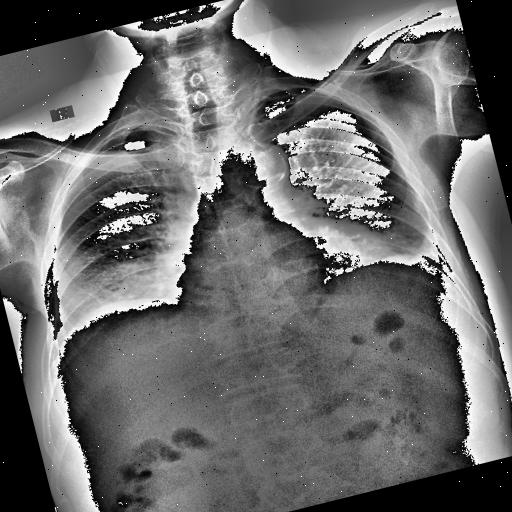0- Aortic enlargement: (213, 132, 296, 202), (221, 134, 295, 198), (220, 139, 292, 200)
10- Pleural effusion: (412, 222, 452, 270), (413, 229, 449, 272)
11- Pleural thickening: (412, 222, 452, 270), (92, 122, 148, 150), (413, 229, 449, 272)
13- Pulmonary fibrosis: (74, 286, 104, 310)
2- Calcification: (268, 151, 291, 181)
3- Cardiomegaly: (160, 202, 396, 318), (168, 224, 404, 337), (168, 222, 396, 318)
